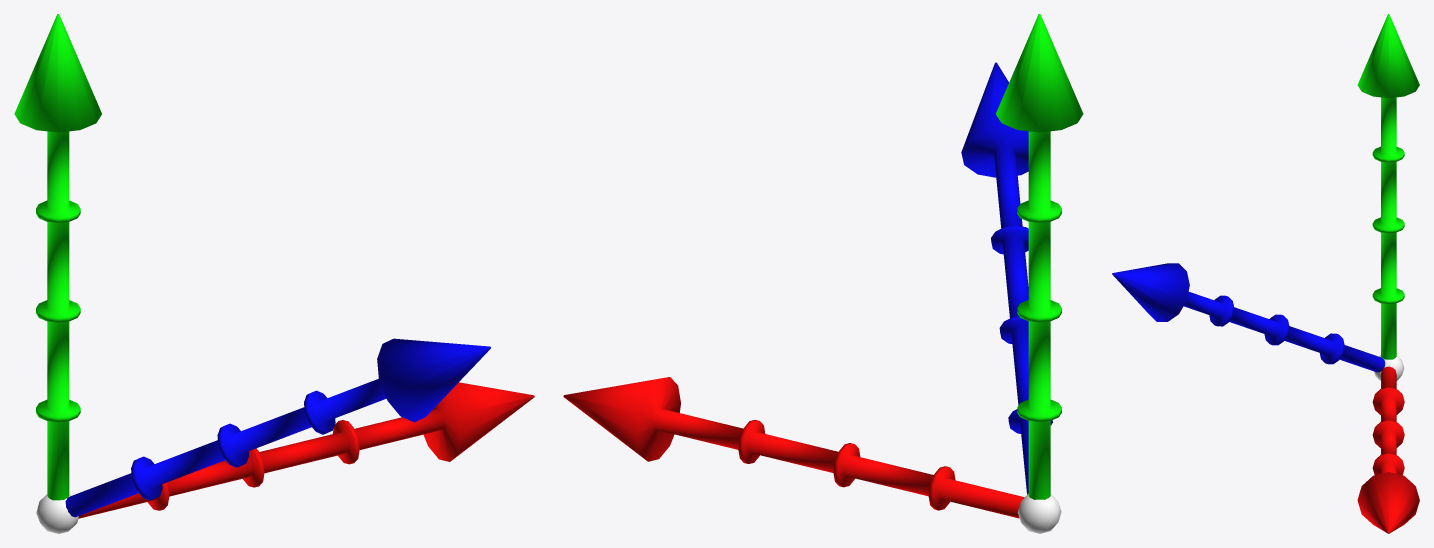
Rendered from repereCatom3D_Zinc.obj.
3 views of the same model, side by side, from view 1: azimuth 30°, elevation 25°; view 2: azimuth 150°, elevation 25°; view 3: azimuth 270°, elevation 25° (orthographic). The views are drawn at different scales.
Parts seen in each view (by area): view 1: repere; view 2: repere; view 3: repere.
Part boxes in pixels (<box>): repere: <box>14,14,534,533</box>; repere: <box>563,14,1083,533</box>; repere: <box>1112,14,1419,533</box>.
Size of the model in its own units: 54 by 54 by 39.43.
